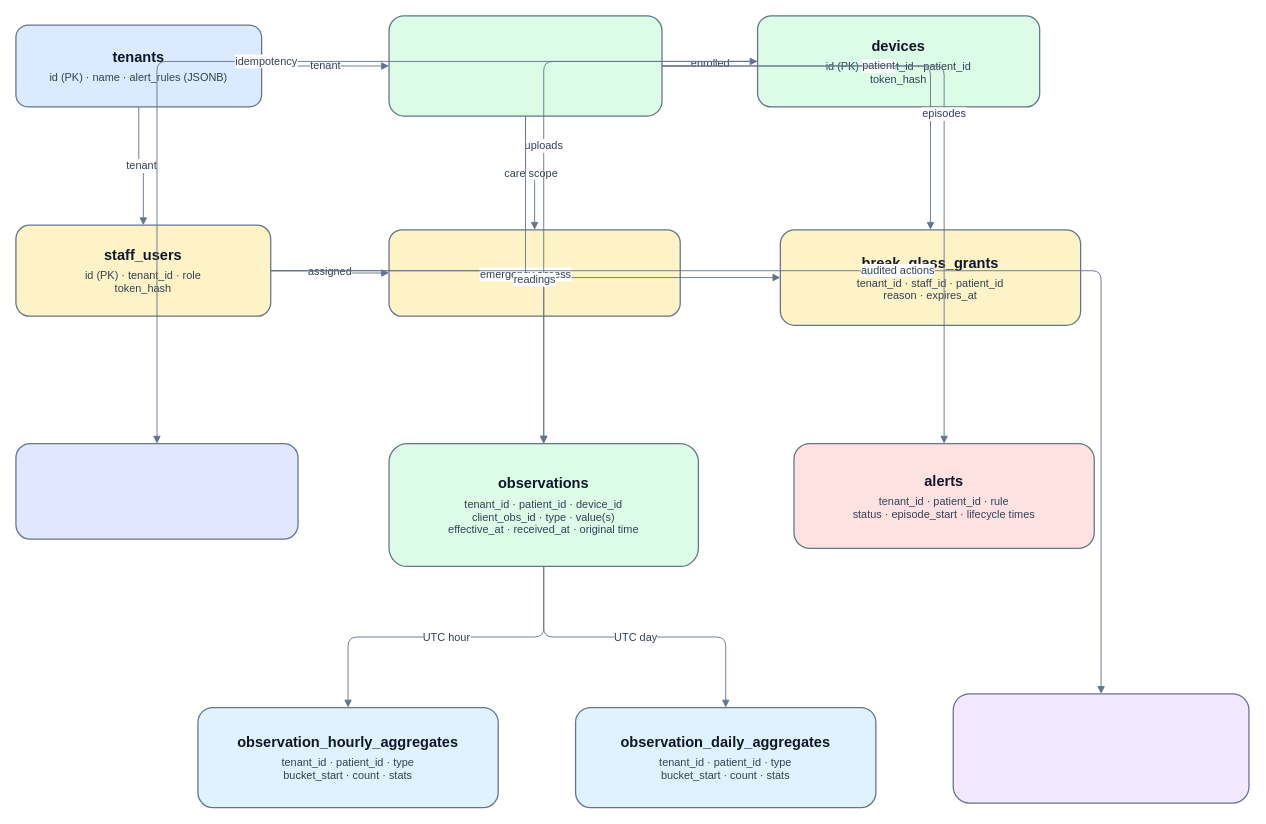
Image size: 1266x824. Some labels were removed from this diagram. Each missing label, with the centre of its shape:
"audit_events tenant_id · actor_id · patient_id action · occurred_at · hash chain" belongs at (x=1100, y=748).
"care_team_memberships tenant_id · staff_id · patient_id" belongs at (x=534, y=272).
"ingestion_requests device_id · idempotency_key request_hash · response_body" belongs at (x=156, y=491).
"patients id (PK) · tenant_id · consent_active monitoring_started_at · timezone" belongs at (x=525, y=65).
